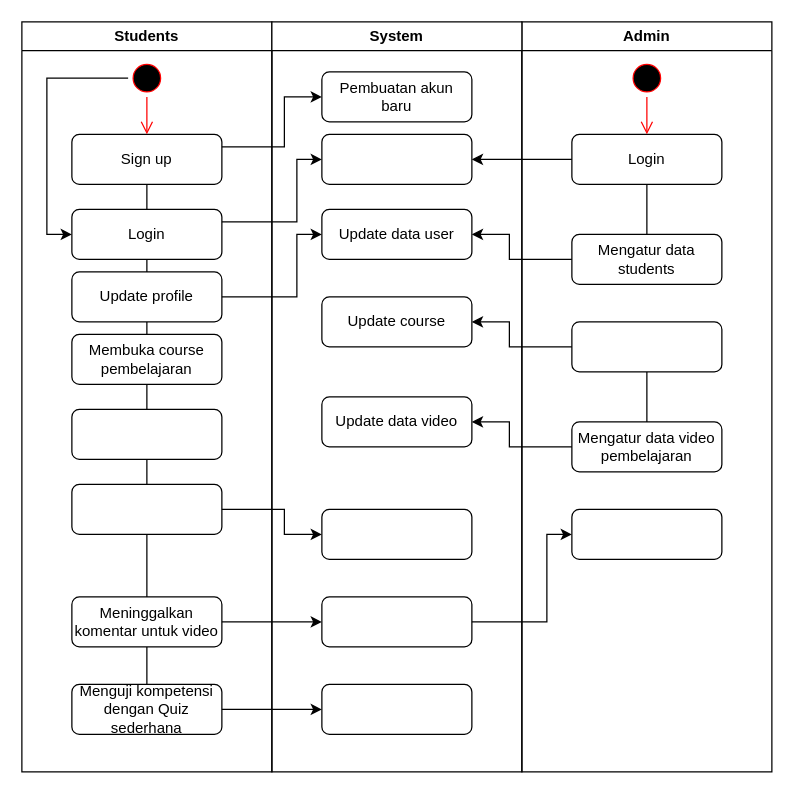
Some shapes in this 794 by 794 pixel diagram are drawn without their labels. The box of each missing label's shape, as (x1, y1, x2, y2) in pixels:
Memantau data comment: (571, 508, 722, 559)
Membuka playlist pembelajaran: (71, 408, 222, 459)
Menampilkan video: (321, 508, 472, 559)
Mengatur course: (571, 321, 722, 372)
Menonton video pembelajaran: (71, 483, 222, 534)
Menyimpan komen ke dalam DB: (321, 596, 472, 647)
submit hasil dan menampilkan hasil quiz: (321, 683, 472, 734)
Verifikasi kredensial: (321, 133, 472, 184)
